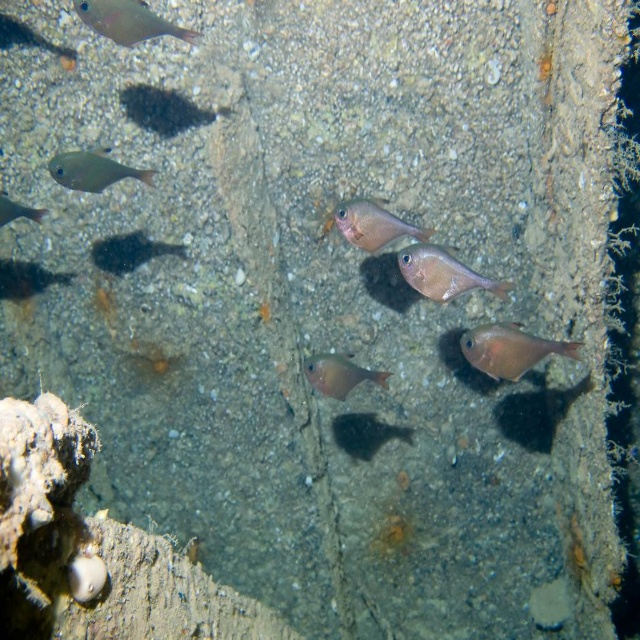Fish: (461, 324, 583, 386), (398, 244, 516, 307), (74, 0, 199, 49), (335, 199, 436, 259), (49, 143, 161, 197), (300, 350, 396, 401), (0, 194, 45, 230)
